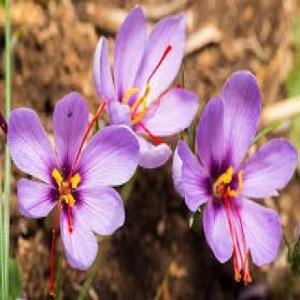Saffron: (172, 70, 300, 267), (7, 92, 139, 269), (94, 4, 198, 170)
